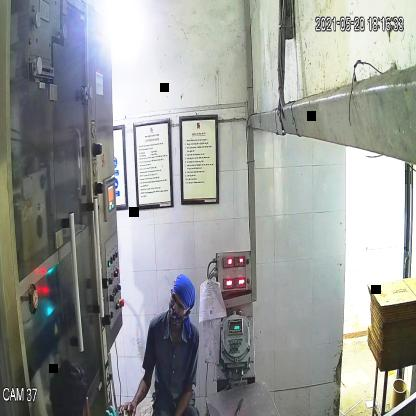goggles: (168, 287, 189, 317)
